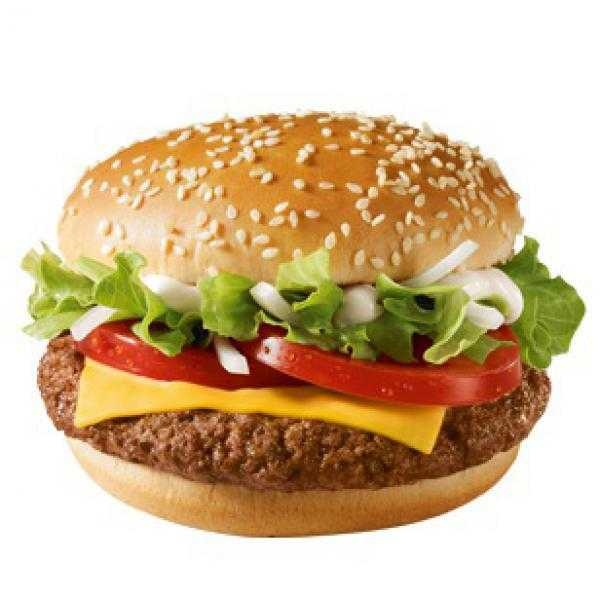hamburger: (24, 108, 582, 531)
